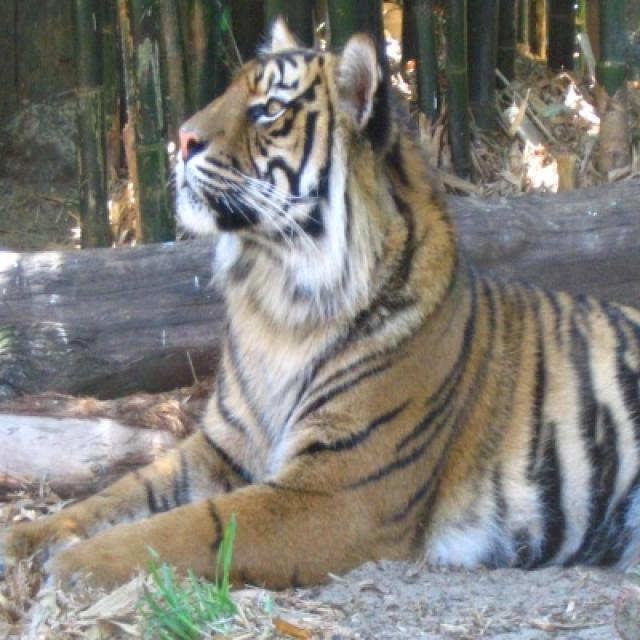Tiger: (6, 19, 638, 587)
